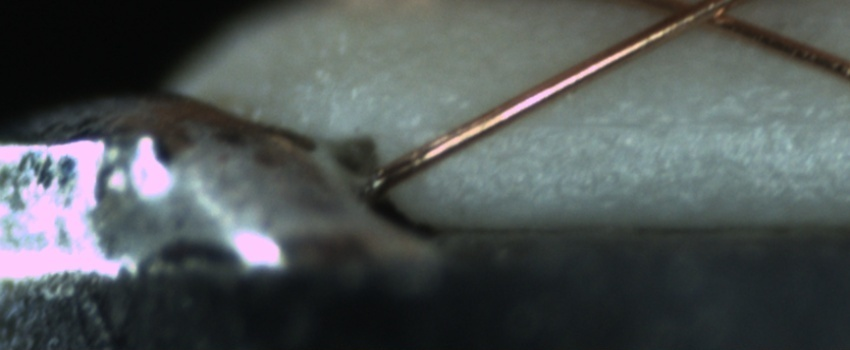CL: (641, 1, 757, 37)
DL: (505, 92, 849, 156)
